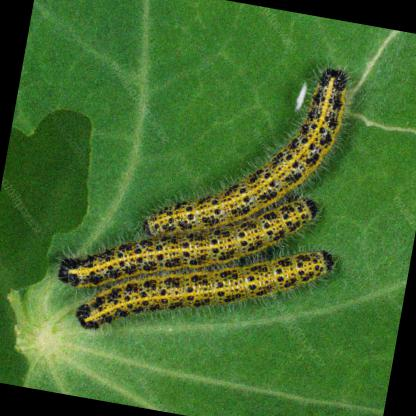pieris: (136, 64, 346, 244), (54, 198, 317, 289), (71, 249, 333, 326)
